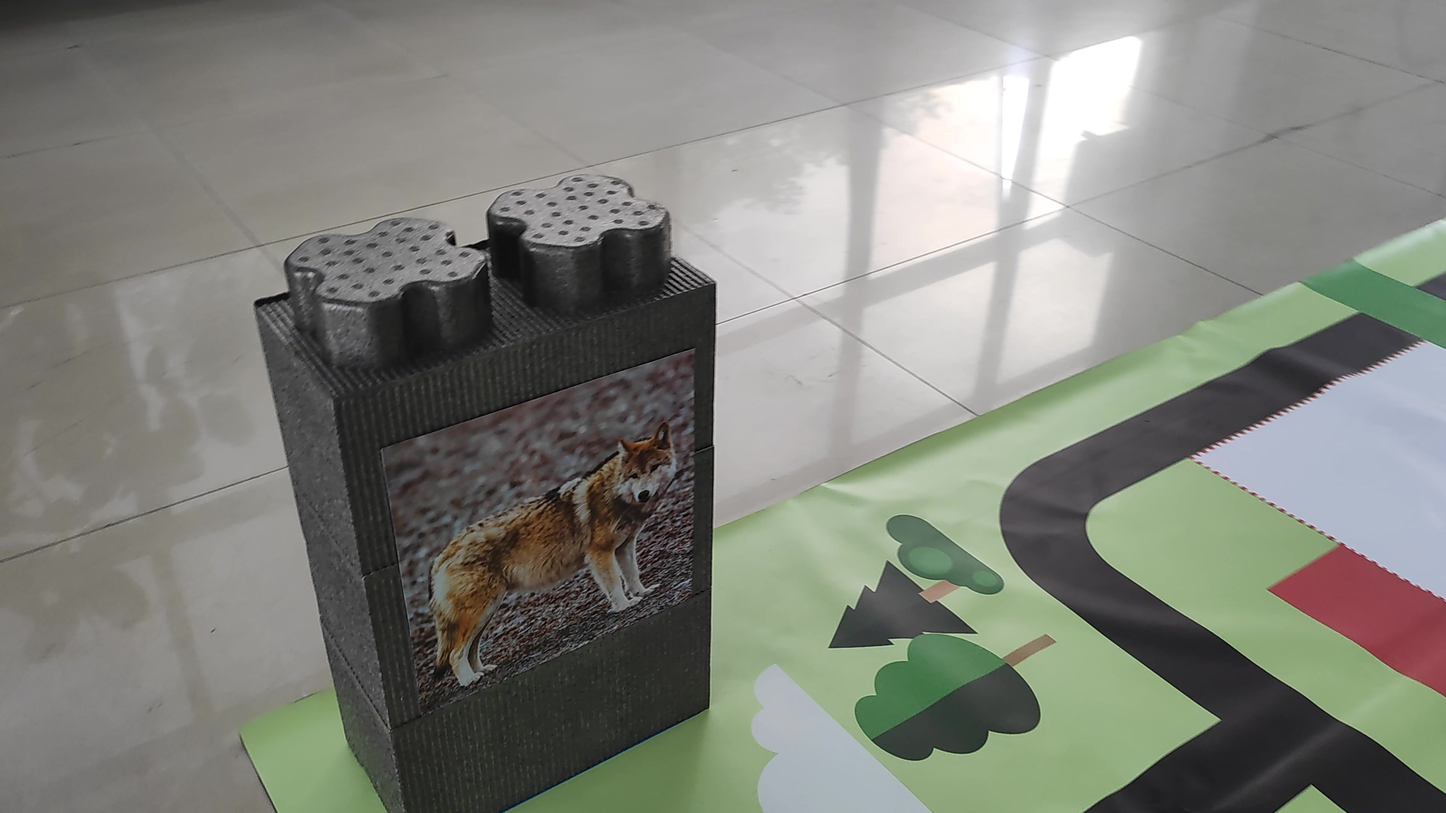wolf: (416, 418, 685, 695)
